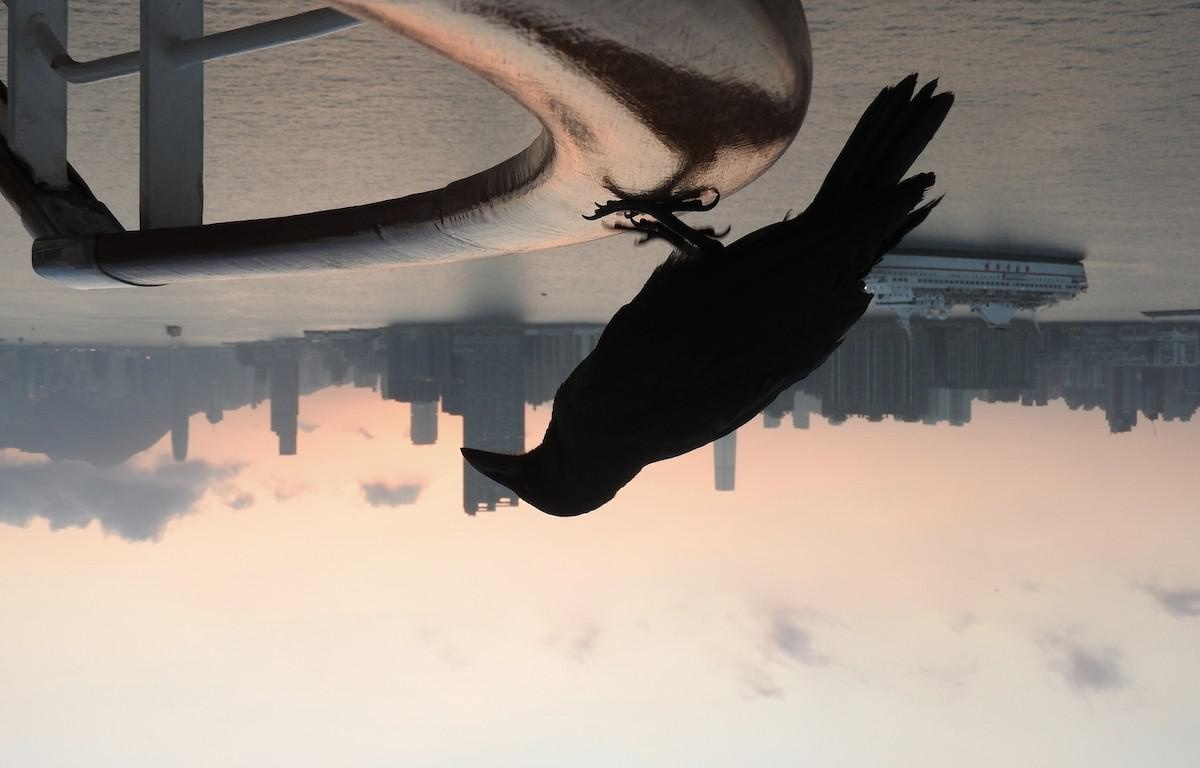crow: (455, 70, 977, 527)
